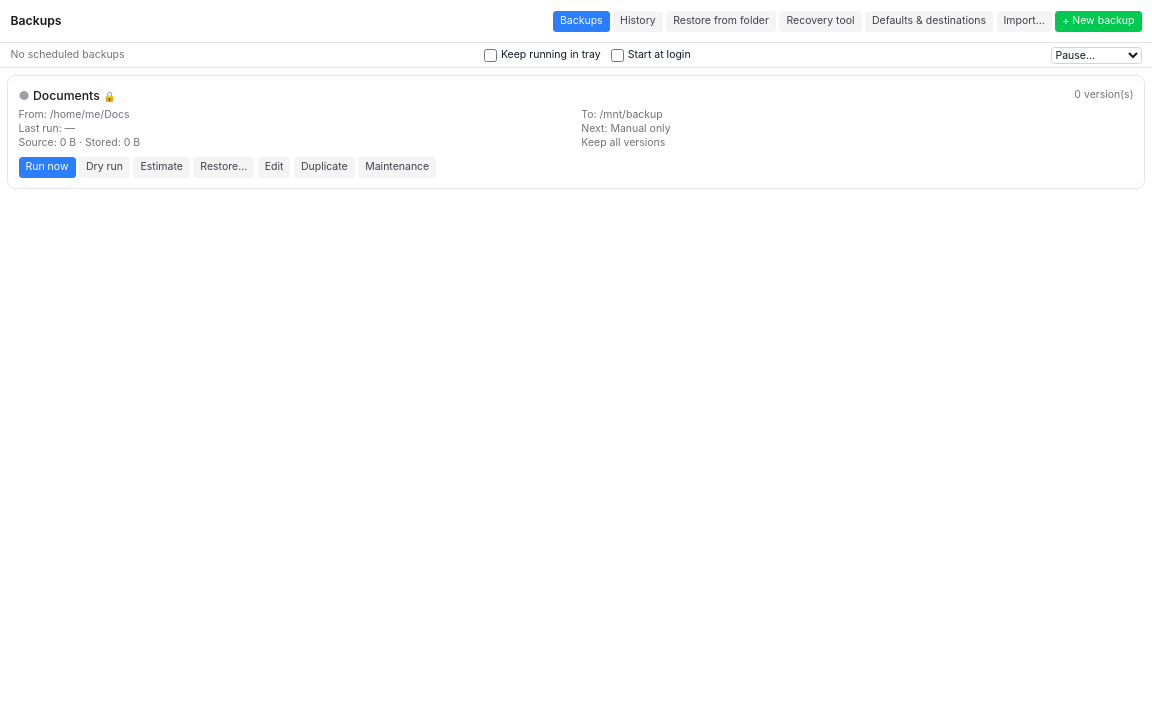
backup: duplicate and shared filter tools › duplicates a job and opens the copy in the editor
The image size is (1152, 720).
Click the button with test id "backup-duplicate" at x=324, y=167, box [294, 156, 355, 178]
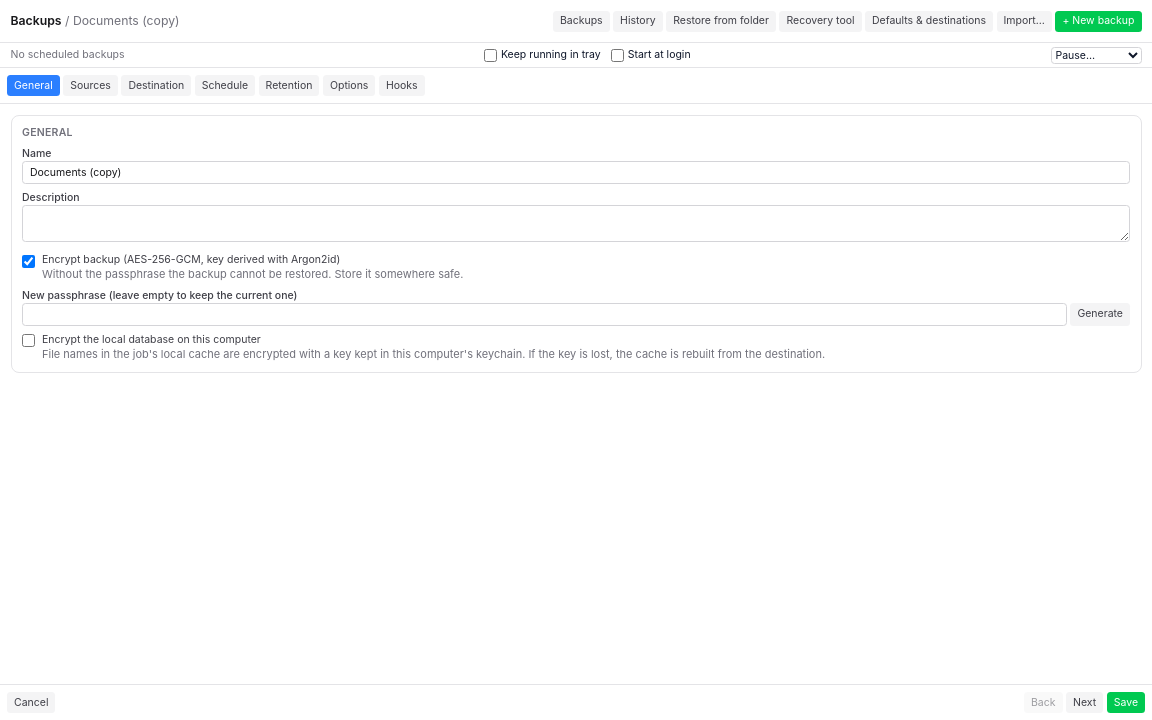
Now the field showing "Documents (copy)" is shown, box [22, 161, 1130, 184]
